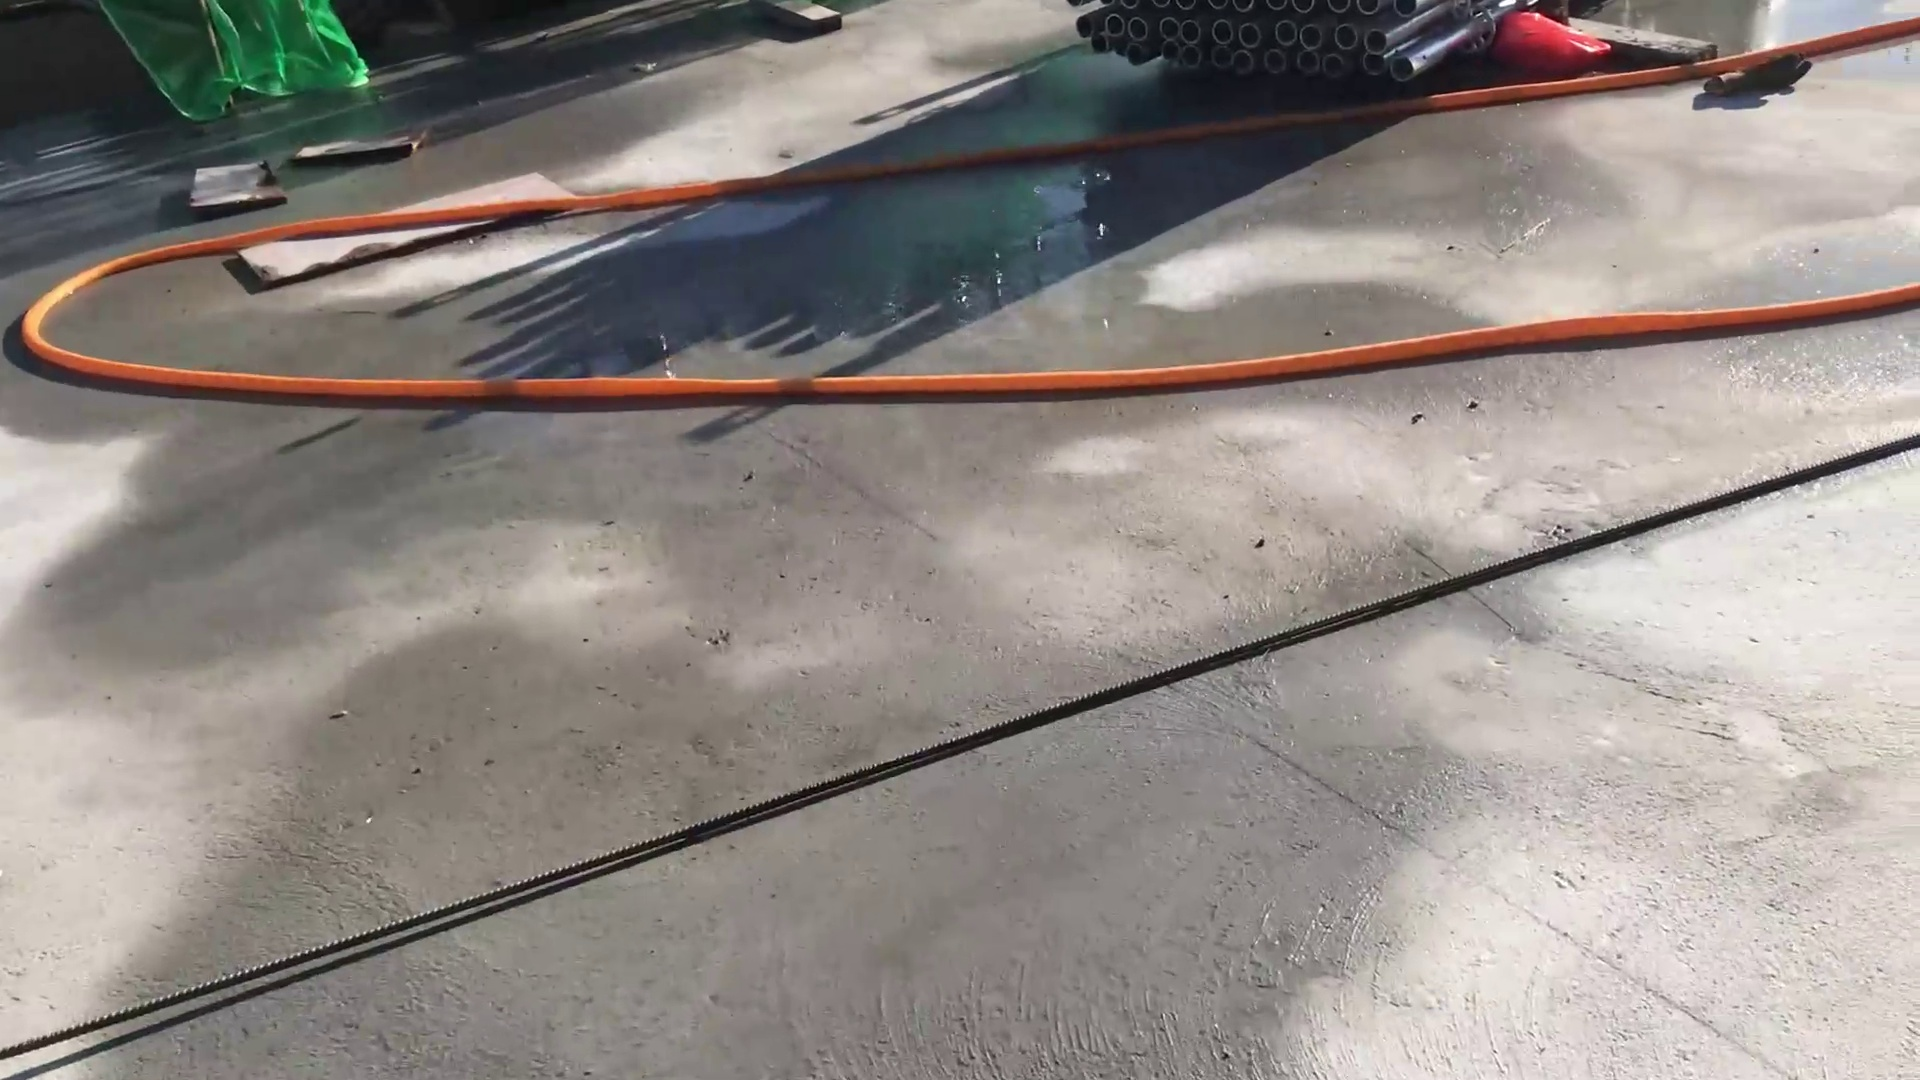scaffold: (1052, 1, 1545, 113)
